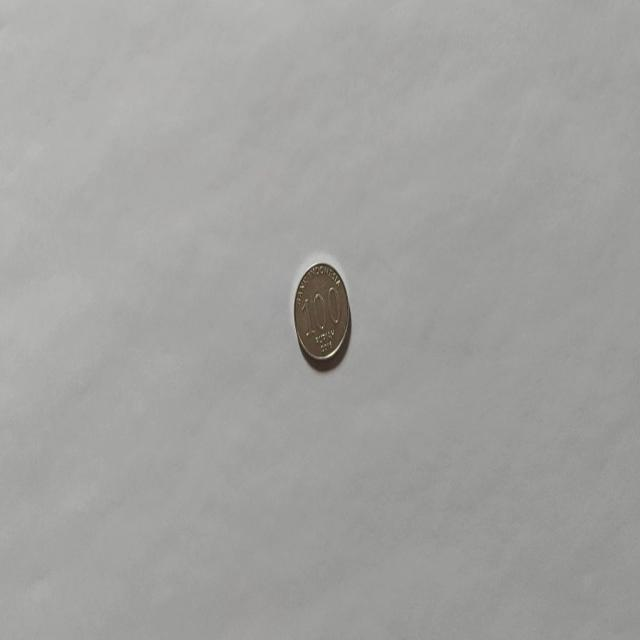seratus rupiah: (292, 260, 350, 366)
